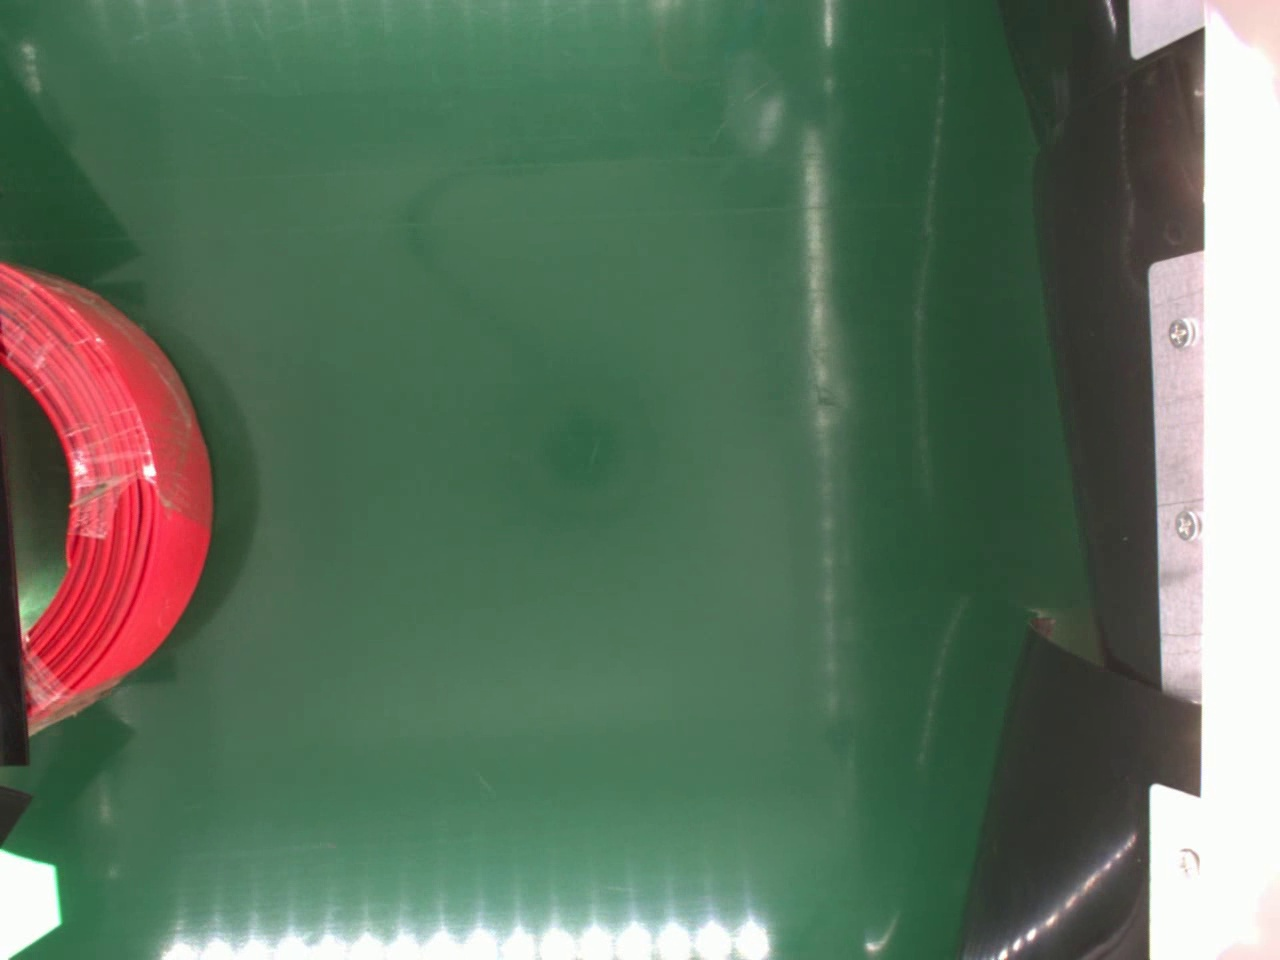red: (0, 261, 211, 723)
